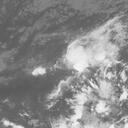cyclone: (67, 35, 114, 72)
